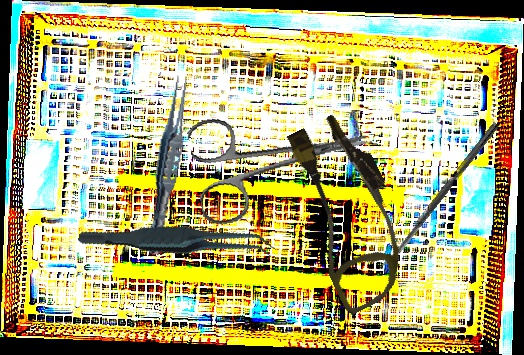Cannula: (266, 106, 431, 317)
Iris Scissors: (185, 90, 378, 229)
Surgical Spoon: (378, 121, 500, 273)
Tissue Forceps: (77, 190, 276, 292), (143, 73, 194, 256)
